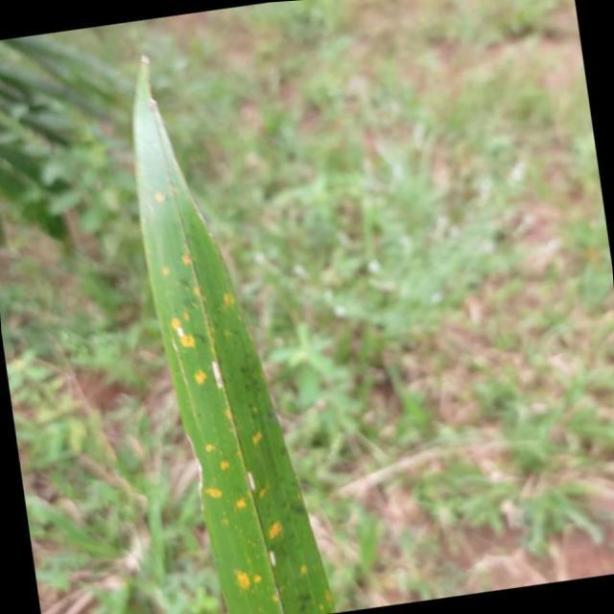Kalium: (130, 48, 338, 614)
